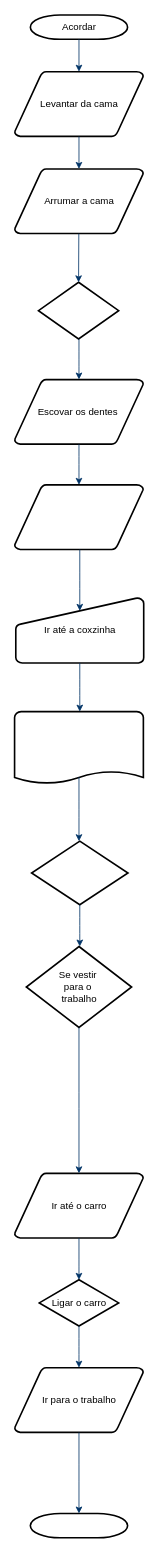
Some shapes in this 159 by 1552 pixel diagram are drawn without their labels. Here are the shapes that lost their labels. From the top down, the centre of each, then its label:
the point at 78,310: Ir até o banheiro
the point at 78,517: Tomar banho
the point at 78,747: Fazer o café da manhã
the point at 79,872: Tomar o café da manhã
the point at 78,1525: Fim
